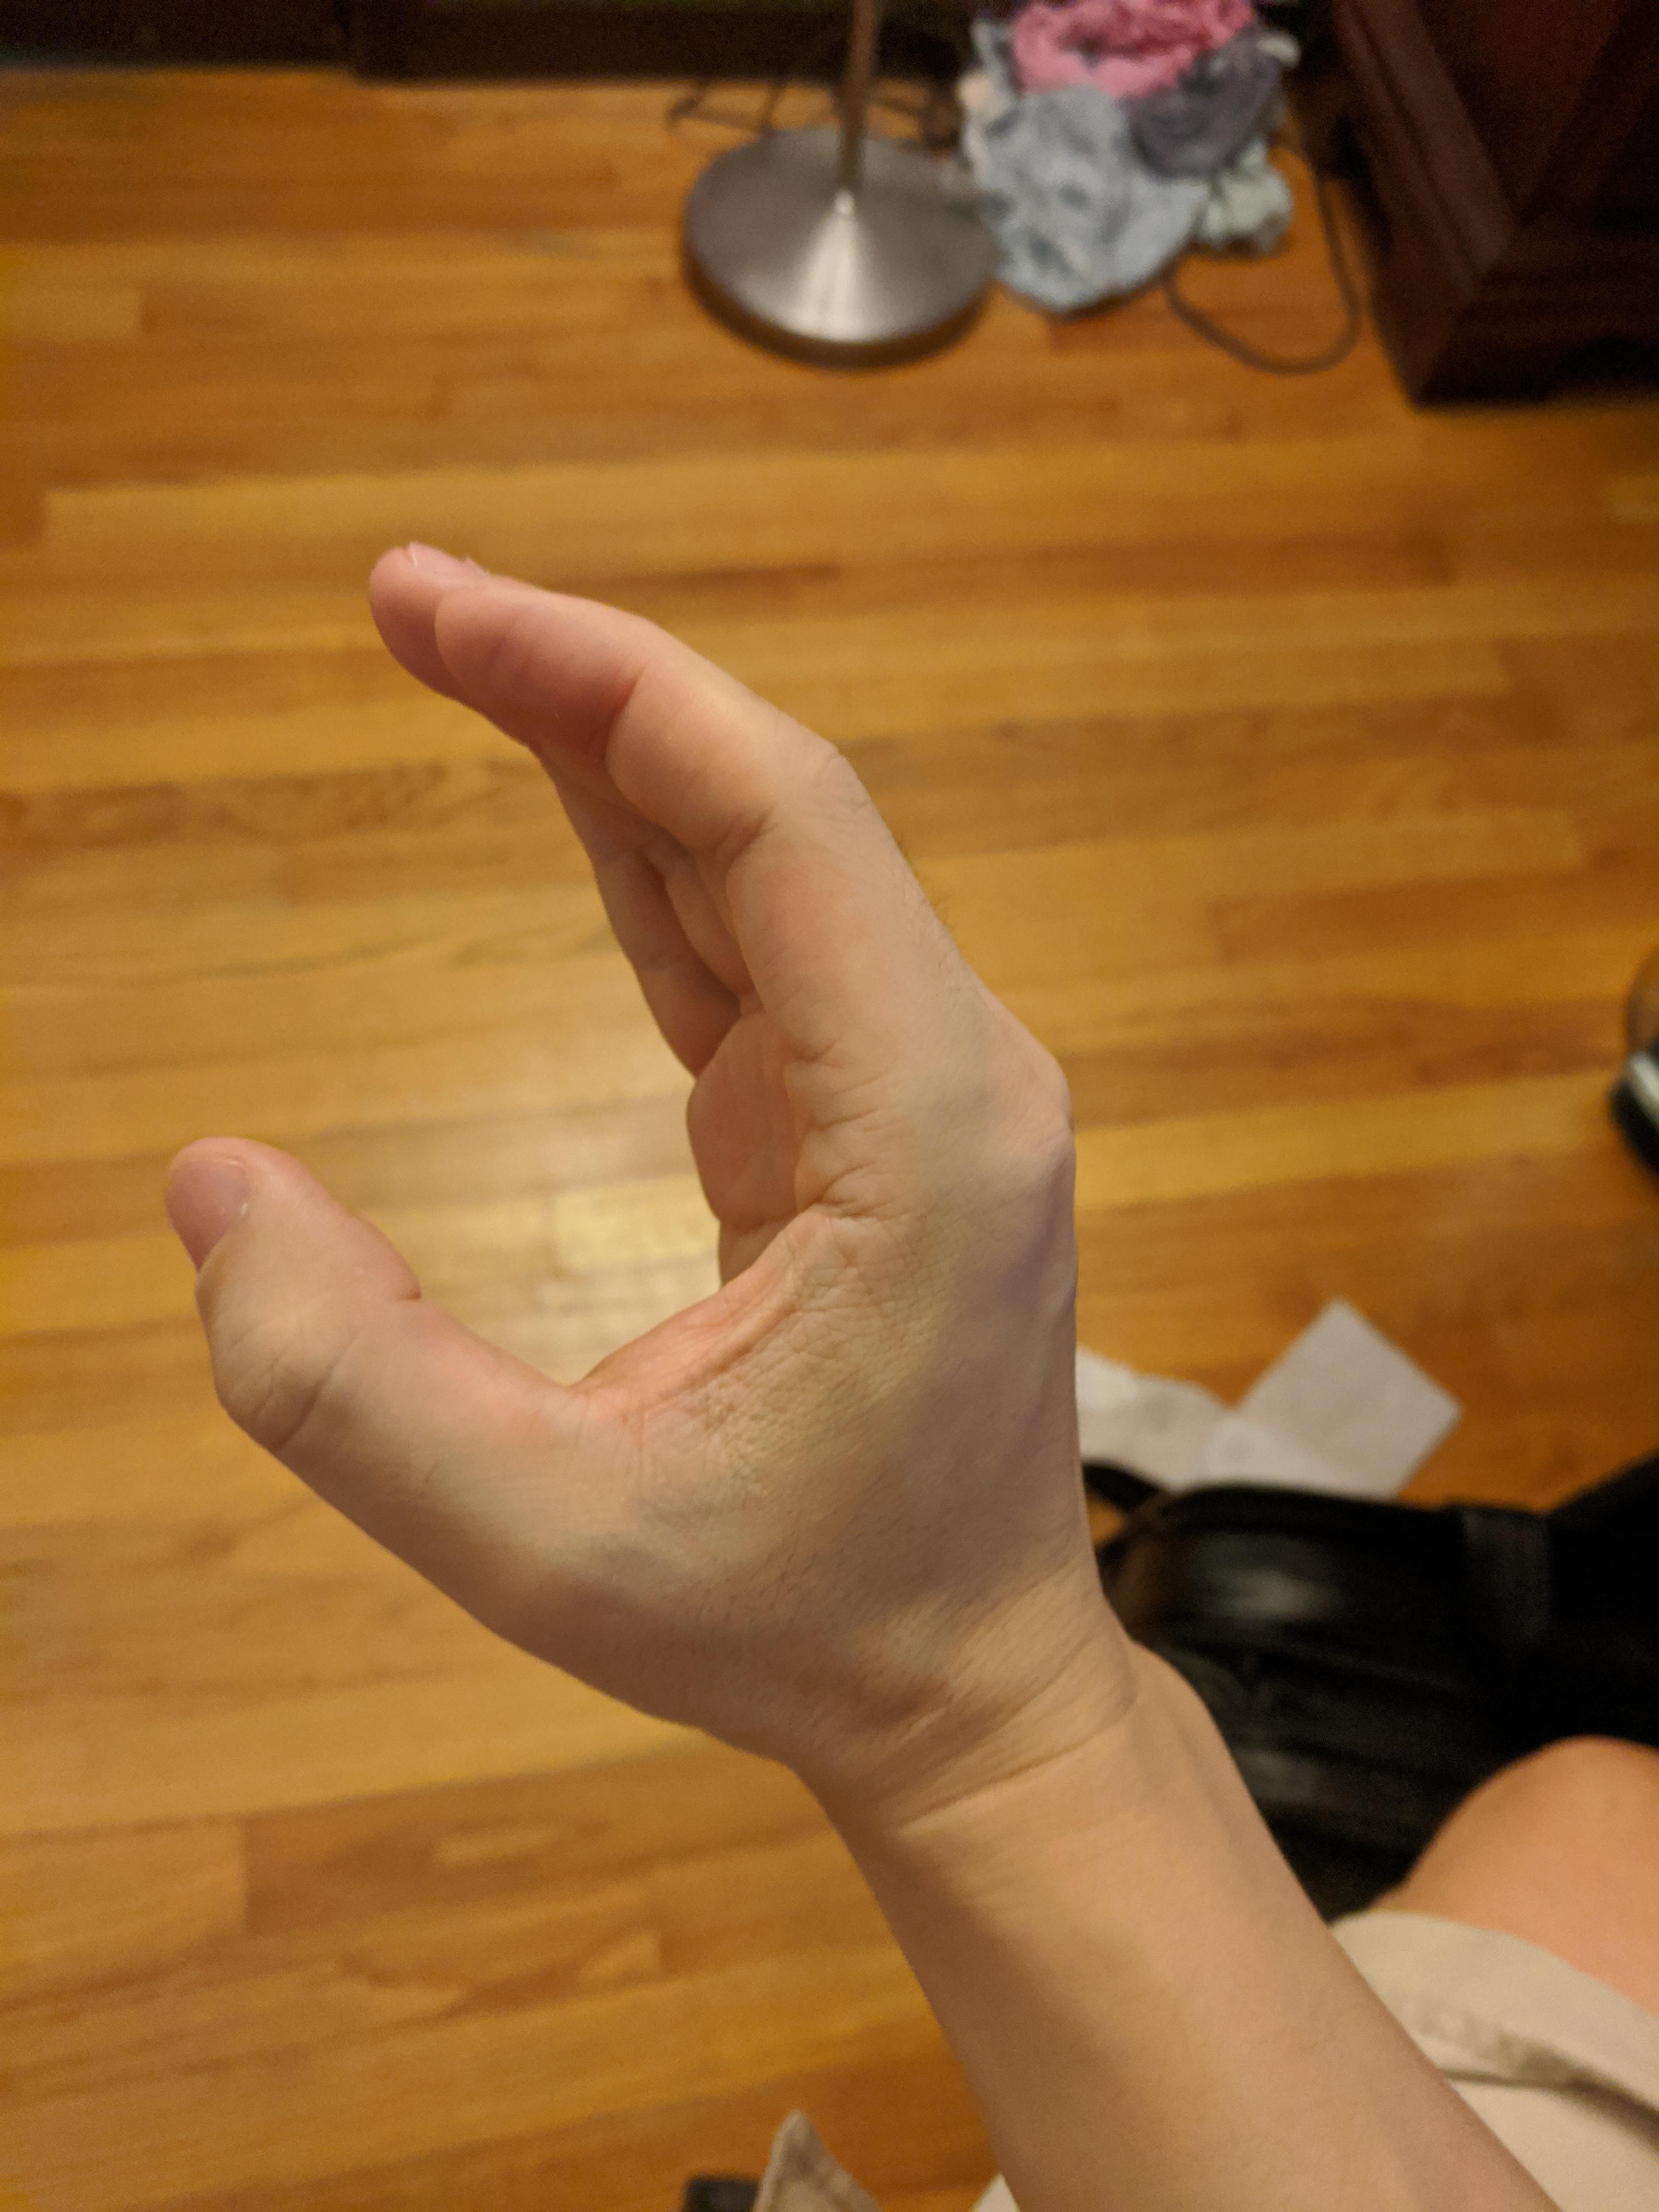C: (136, 516, 1096, 1761)
